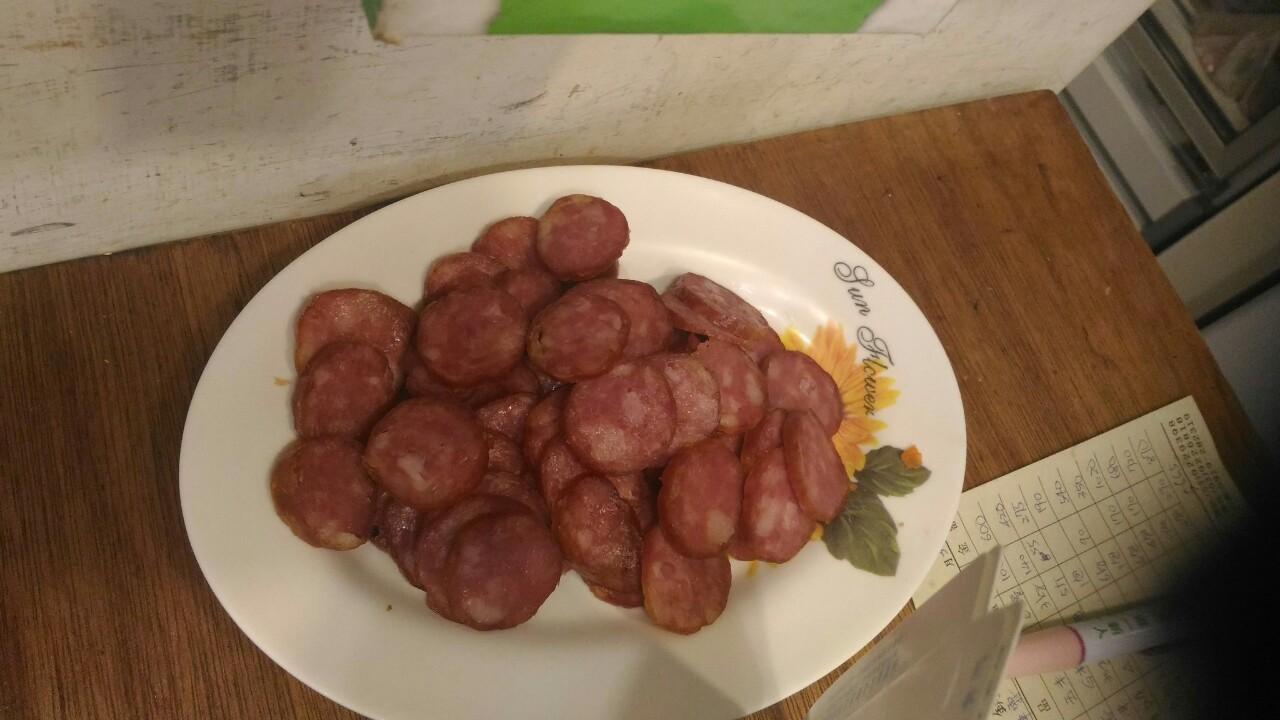chinese_sausage: (303, 221, 843, 623)
